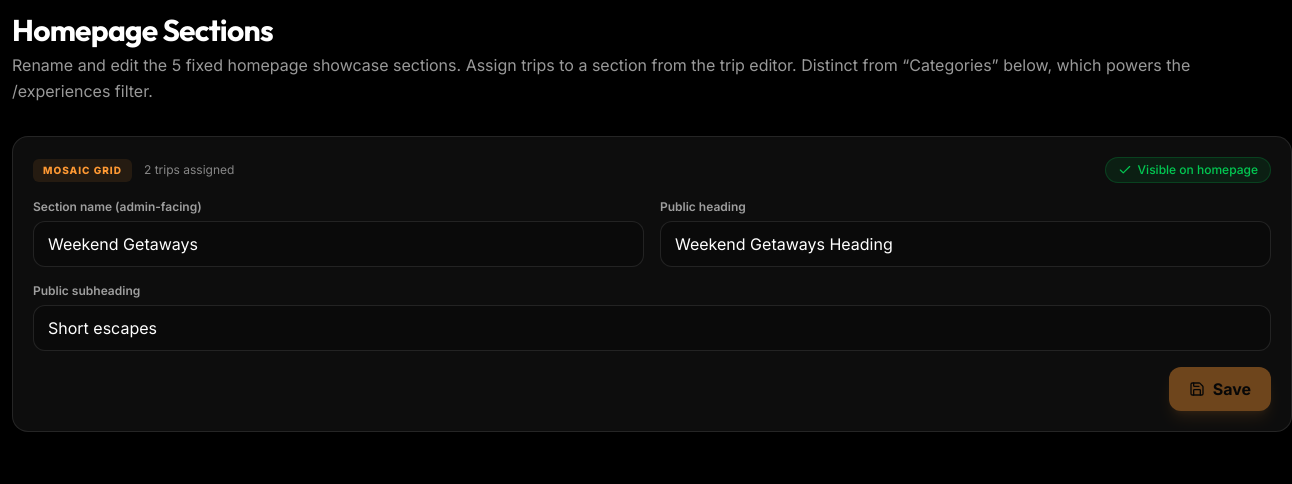
Test case: HomepageSectionsTab › shows a per-section error message when the save fails
This screenshot has width=1292, height=484.
Replace the text in the field showing "Weekend Getaways" with "Short Trips" at {"x": 338, "y": 244}, box [33, 221, 644, 267]
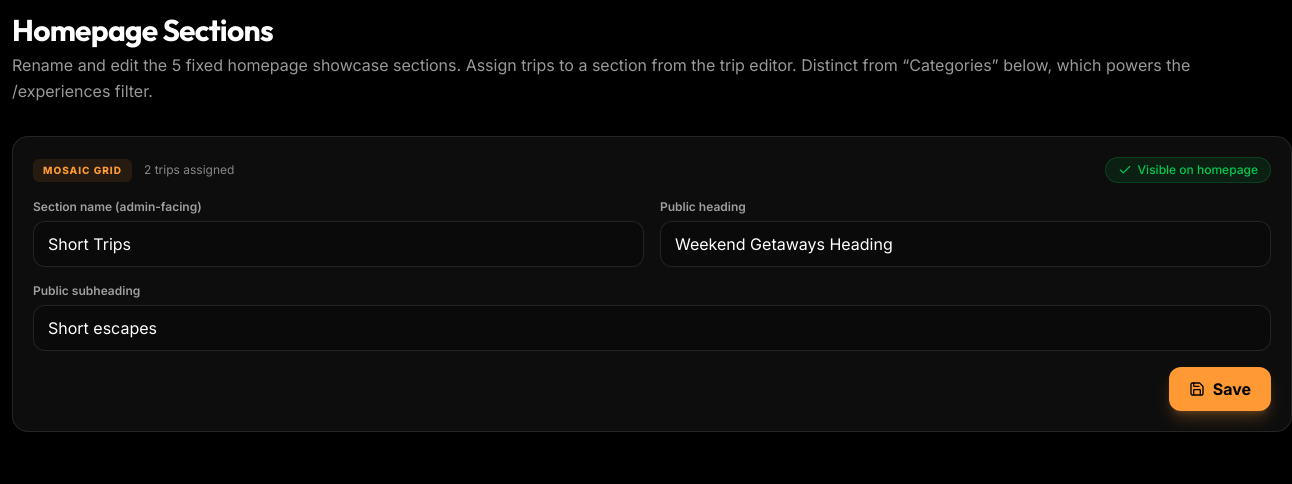
Click the button "Save".
click(1220, 389)  # box [1169, 367, 1271, 411]
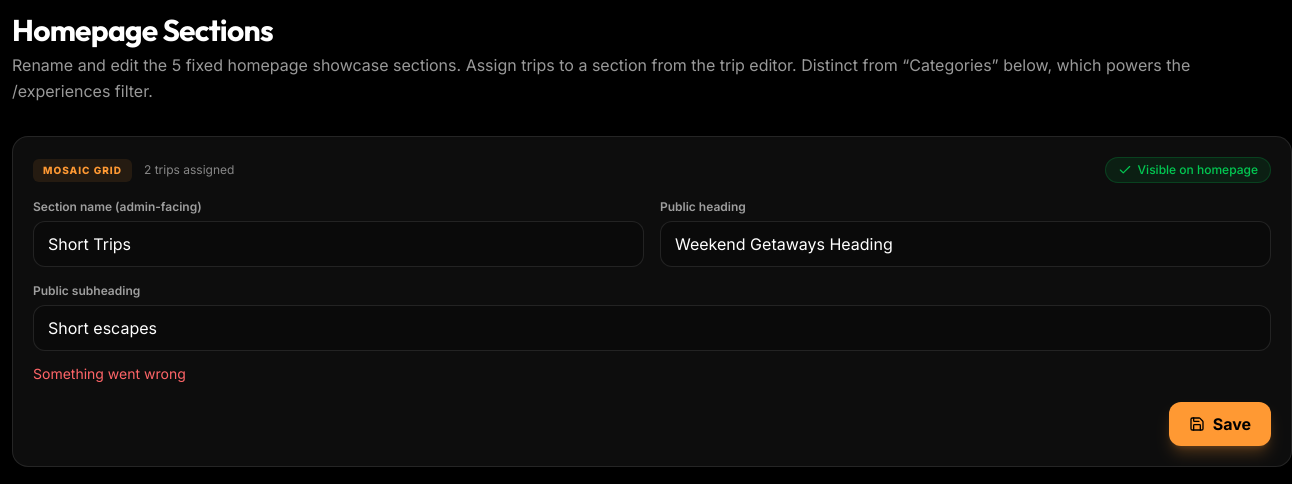
Check: the text "Something went wrong" is shown, box [33, 365, 186, 382]
